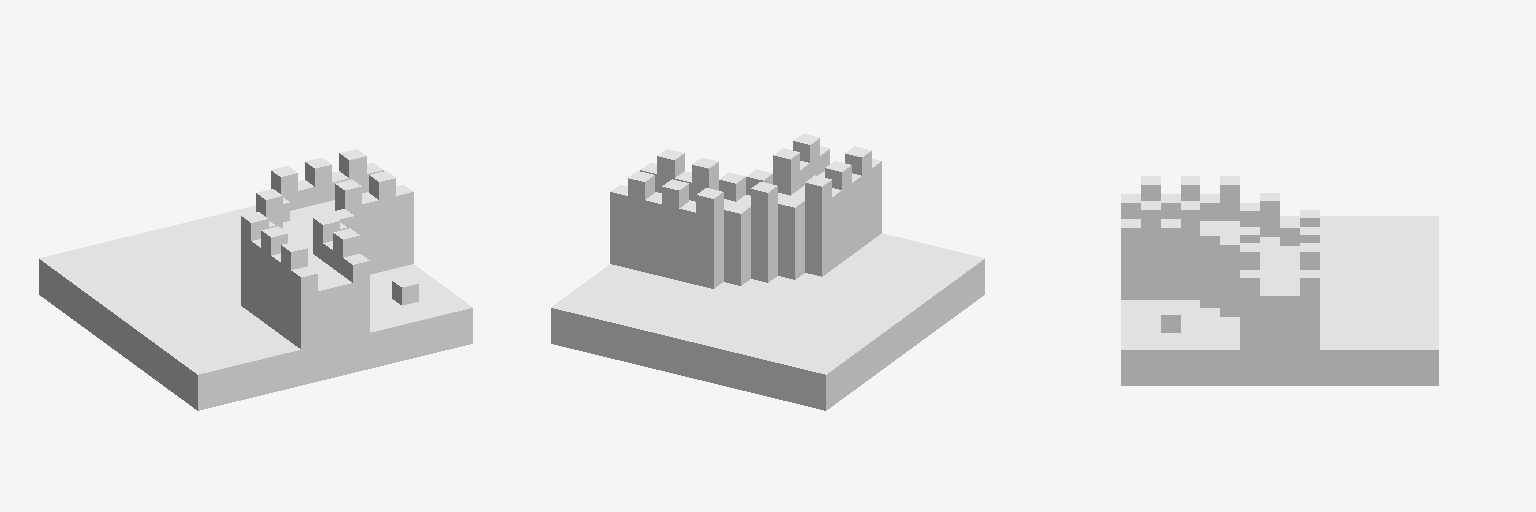
File: Castle_angle_inner_1.obj
3 views of the same model, side by side, from view 1: azimuth 30°, elevation 25°; view 2: azimuth 150°, elevation 25°; view 3: azimuth 270°, elevation 25° (orthographic).
Visible parts, largest first — view 1: object 1; view 2: object 1; view 3: object 1.
Boxes of the visible parts, box(x1,y1,x2,y2) form: object 1: box(39, 149, 472, 410); object 1: box(551, 134, 984, 410); object 1: box(1121, 176, 1438, 385).
Bounding box in the file's own units: 1.6 × 0.7 × 1.6.